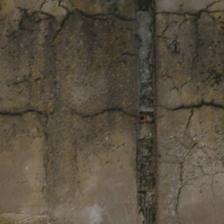Crack: (0, 35, 85, 103), (81, 34, 143, 93), (0, 0, 53, 49), (29, 109, 95, 131), (1, 7, 47, 34)
